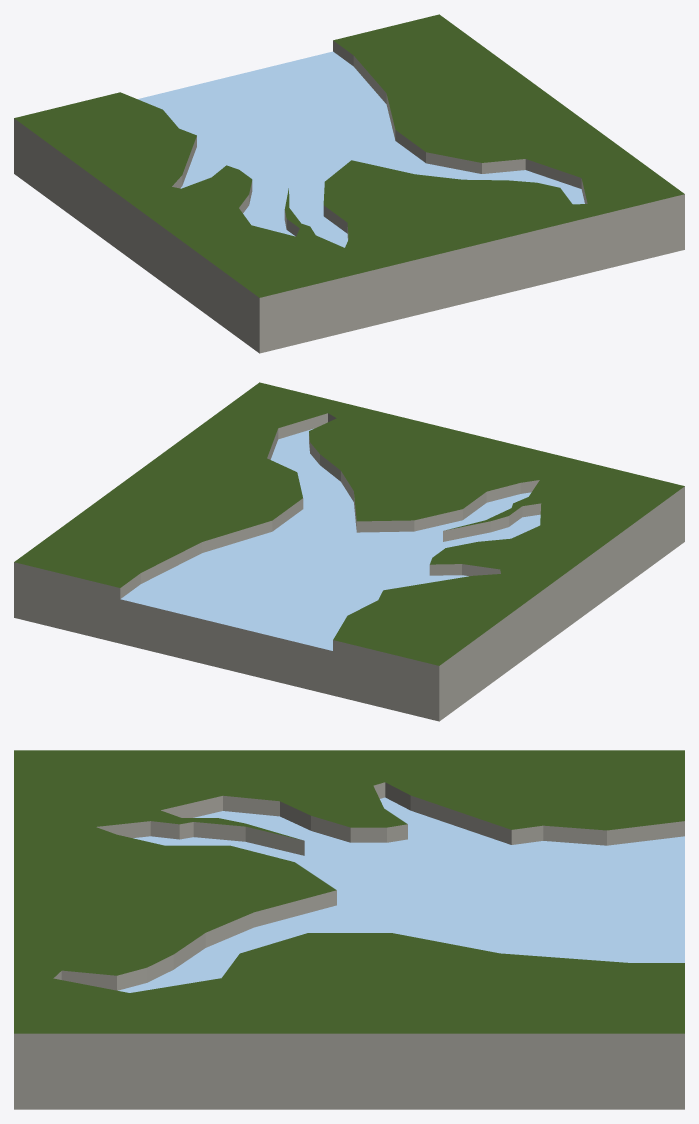
The model's file is Terrain_Tile_Grass_Rock_River_End_02.fbx.
3 renders of one model, top to bottom at view 1: azimuth 30°, elevation 25°; view 2: azimuth 150°, elevation 25°; view 3: azimuth 270°, elevation 25°, orthographic. The views are drawn at different scales.
Parts seen in each view (by area): view 1: Terrain_Tile_Grass_Rock_River_End_02; view 2: Terrain_Tile_Grass_Rock_River_End_02; view 3: Terrain_Tile_Grass_Rock_River_End_02.
Boxes of the visible parts, box(x1,y1,x2,y2) form: Terrain_Tile_Grass_Rock_River_End_02: box(14, 14, 684, 353); Terrain_Tile_Grass_Rock_River_End_02: box(14, 382, 684, 721); Terrain_Tile_Grass_Rock_River_End_02: box(14, 750, 684, 1109).
Bounding box in the file's own units: 126 × 15.75 × 126.
